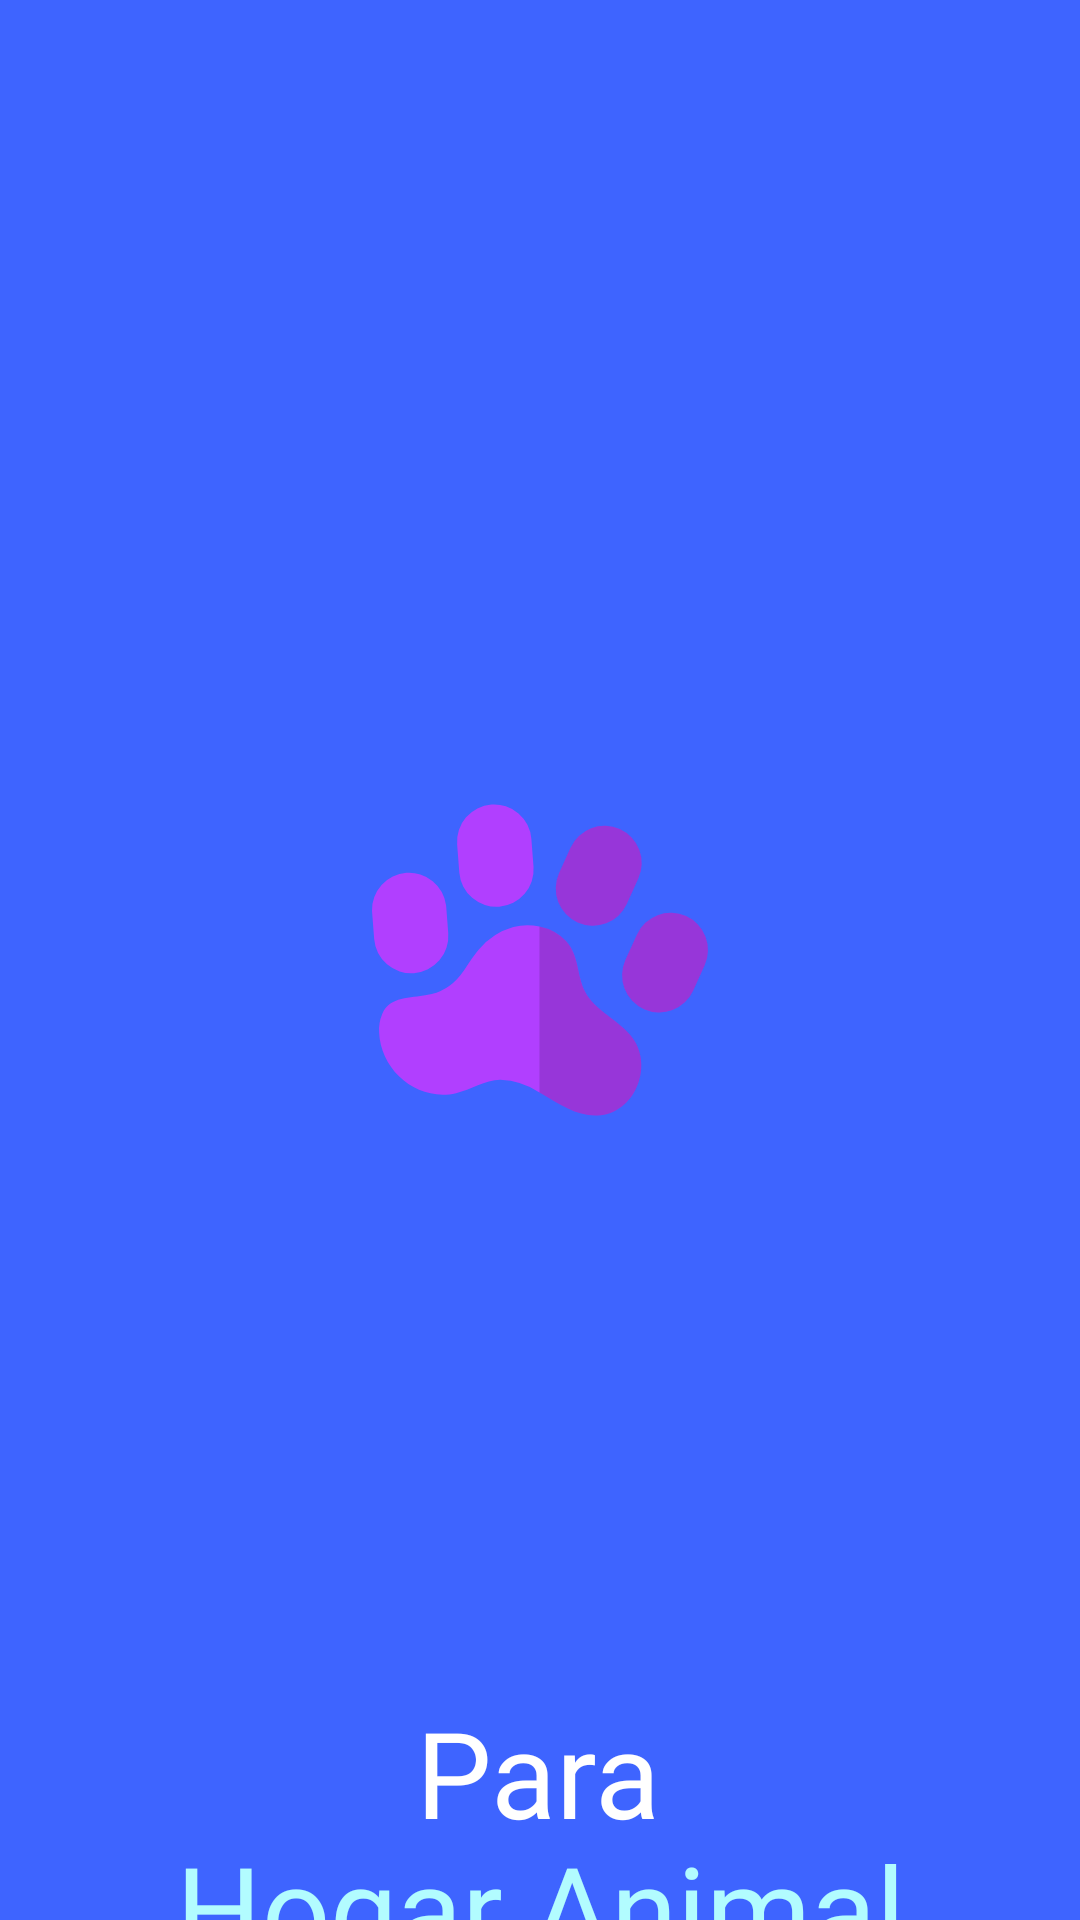

Screen size 1080*1920. Icon name, then its box in pixels as [x1=x1, y1=y1, x2=x2, y2=y2]:
paw print animal: [x1=372, y1=804, x2=708, y2=1116]
